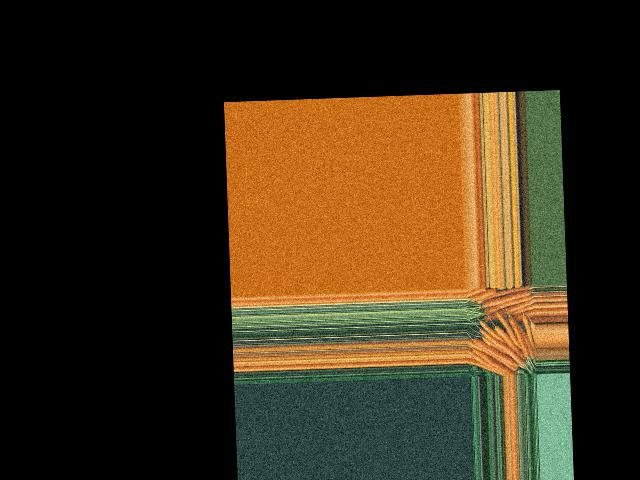carrot: (513, 318, 533, 358)
